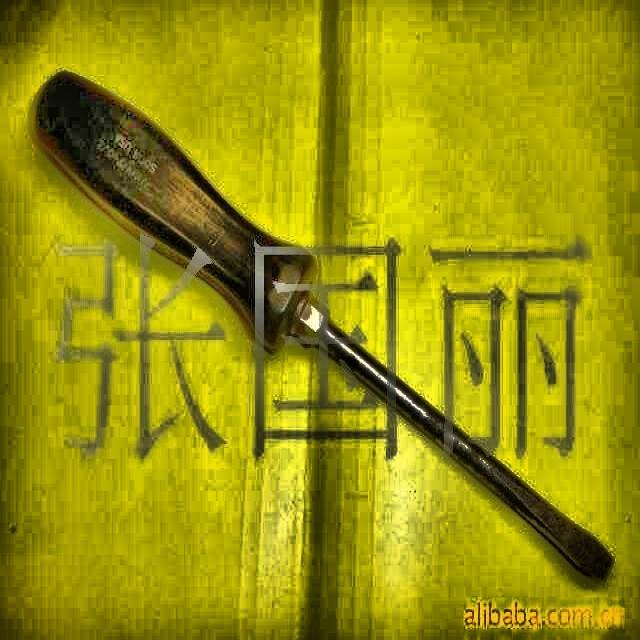screwdriver: (31, 69, 616, 582)
